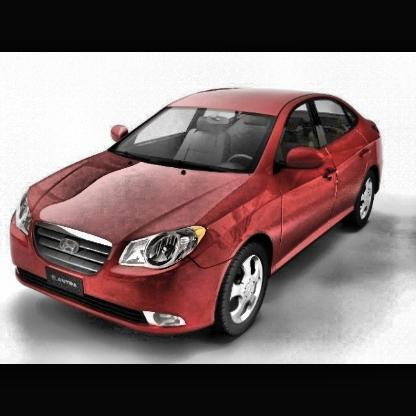Hyundai Elantra Sedan 2007: (11, 87, 383, 345)
